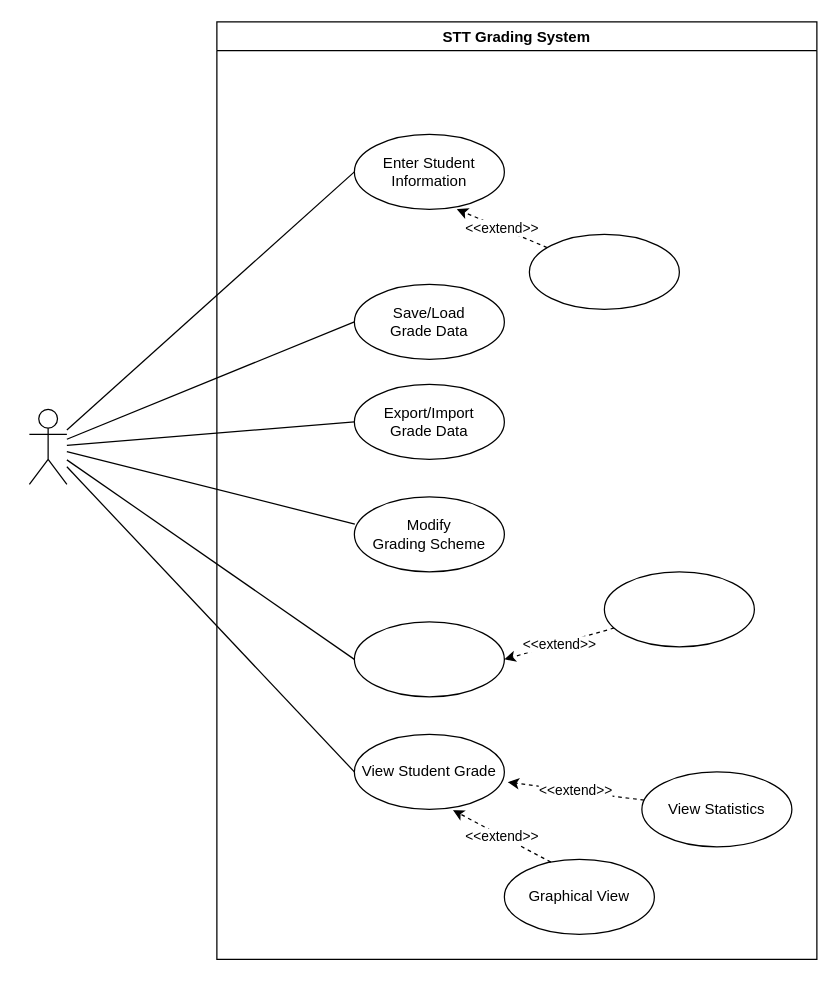
The diagram is 839 pixels wide and 981 high, and some of its shapes have lost their labels. The centre of each missing label's shape, as x and y in pixels:
"Attendance Count" goes at point 678,609.
"Enter Student Grade" goes at point 428,659.
"Import from File" goes at point 603,271.
"Teacher" goes at point 47,446.
